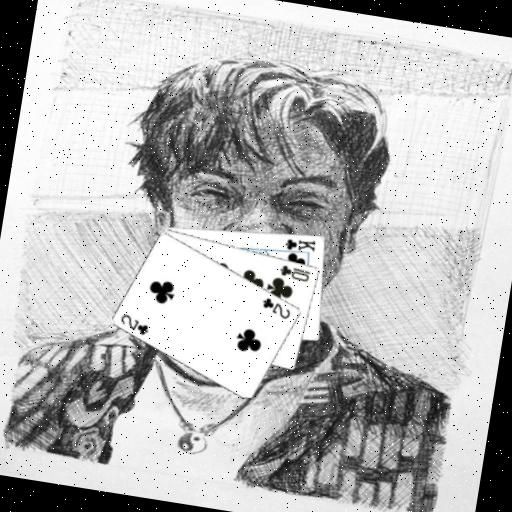10C: (276, 260, 312, 283)
2C: (258, 293, 295, 321), (115, 309, 152, 337)
KC: (279, 232, 318, 258)
